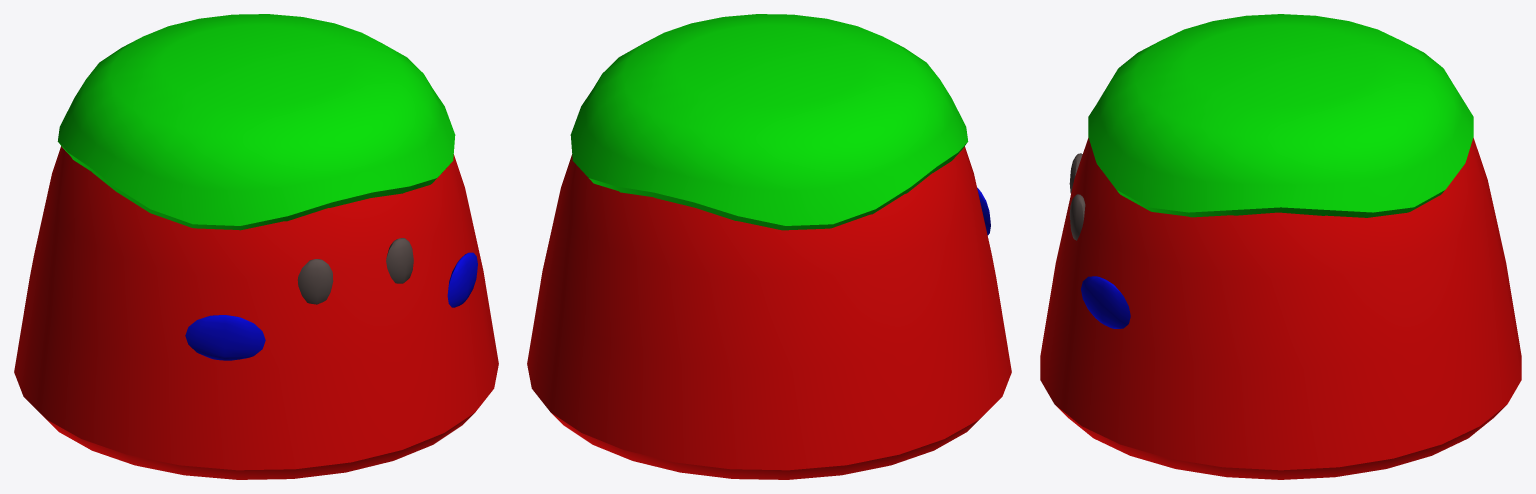
Rendered from pudding_base.glb.
The picture shows the model from 3 angles, left to right: view 1: azimuth 30°, elevation 25°; view 2: azimuth 150°, elevation 25°; view 3: azimuth 270°, elevation 25°; orthographic projection.
Visible parts, largest first — view 1: Pudding_Body, Pudding_Eyes; view 2: Pudding_Body; view 3: Pudding_Body, Pudding_Eyes.
Boxes of the visible parts, left/top/right/bottom form: Pudding_Body: left=14, top=14, right=498, bottom=479; Pudding_Eyes: left=297, top=238, right=413, bottom=304; Pudding_Body: left=527, top=14, right=1011, bottom=479; Pudding_Body: left=1040, top=14, right=1521, bottom=479; Pudding_Eyes: left=1069, top=153, right=1085, bottom=240.
Size of the model in its own units: 1 by 0.748 by 0.9927.
